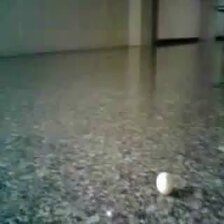w: (156, 172, 173, 194)
